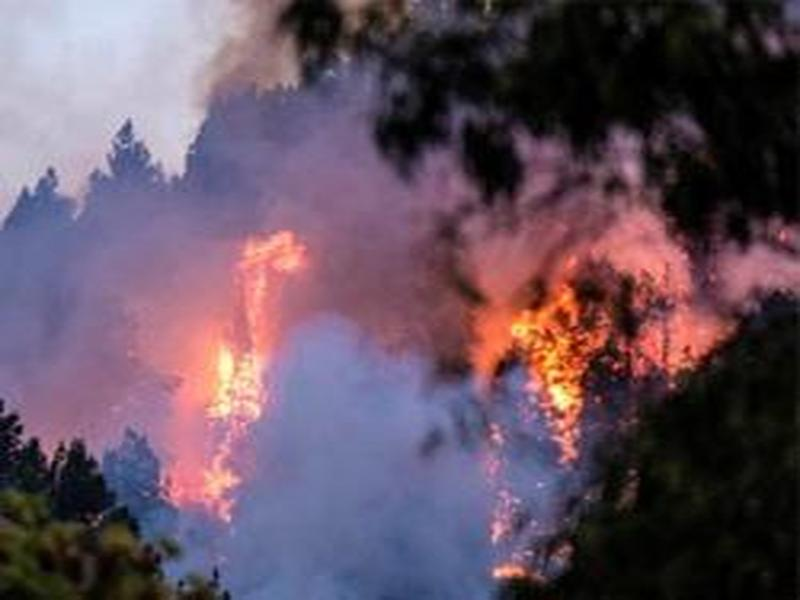FIRE: (91, 204, 629, 590)
